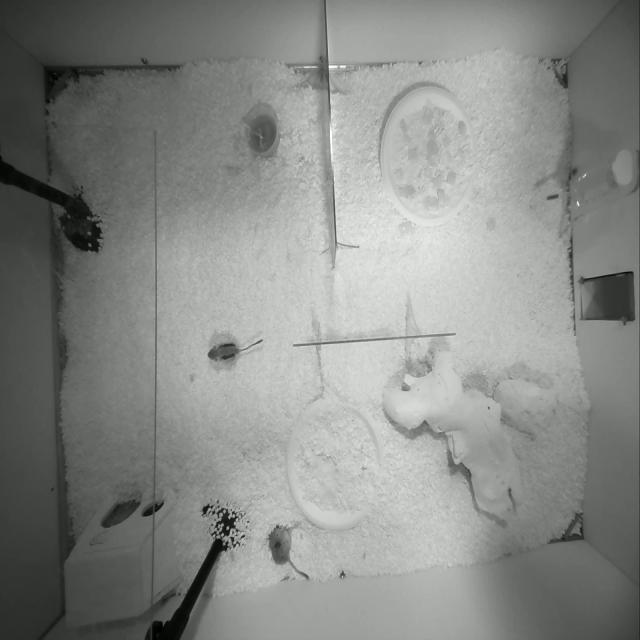pup_fluffy: (269, 526, 309, 579)
pup_v_stripe: (208, 340, 262, 359)
